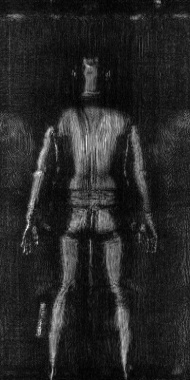gun: (34, 301, 47, 341)
